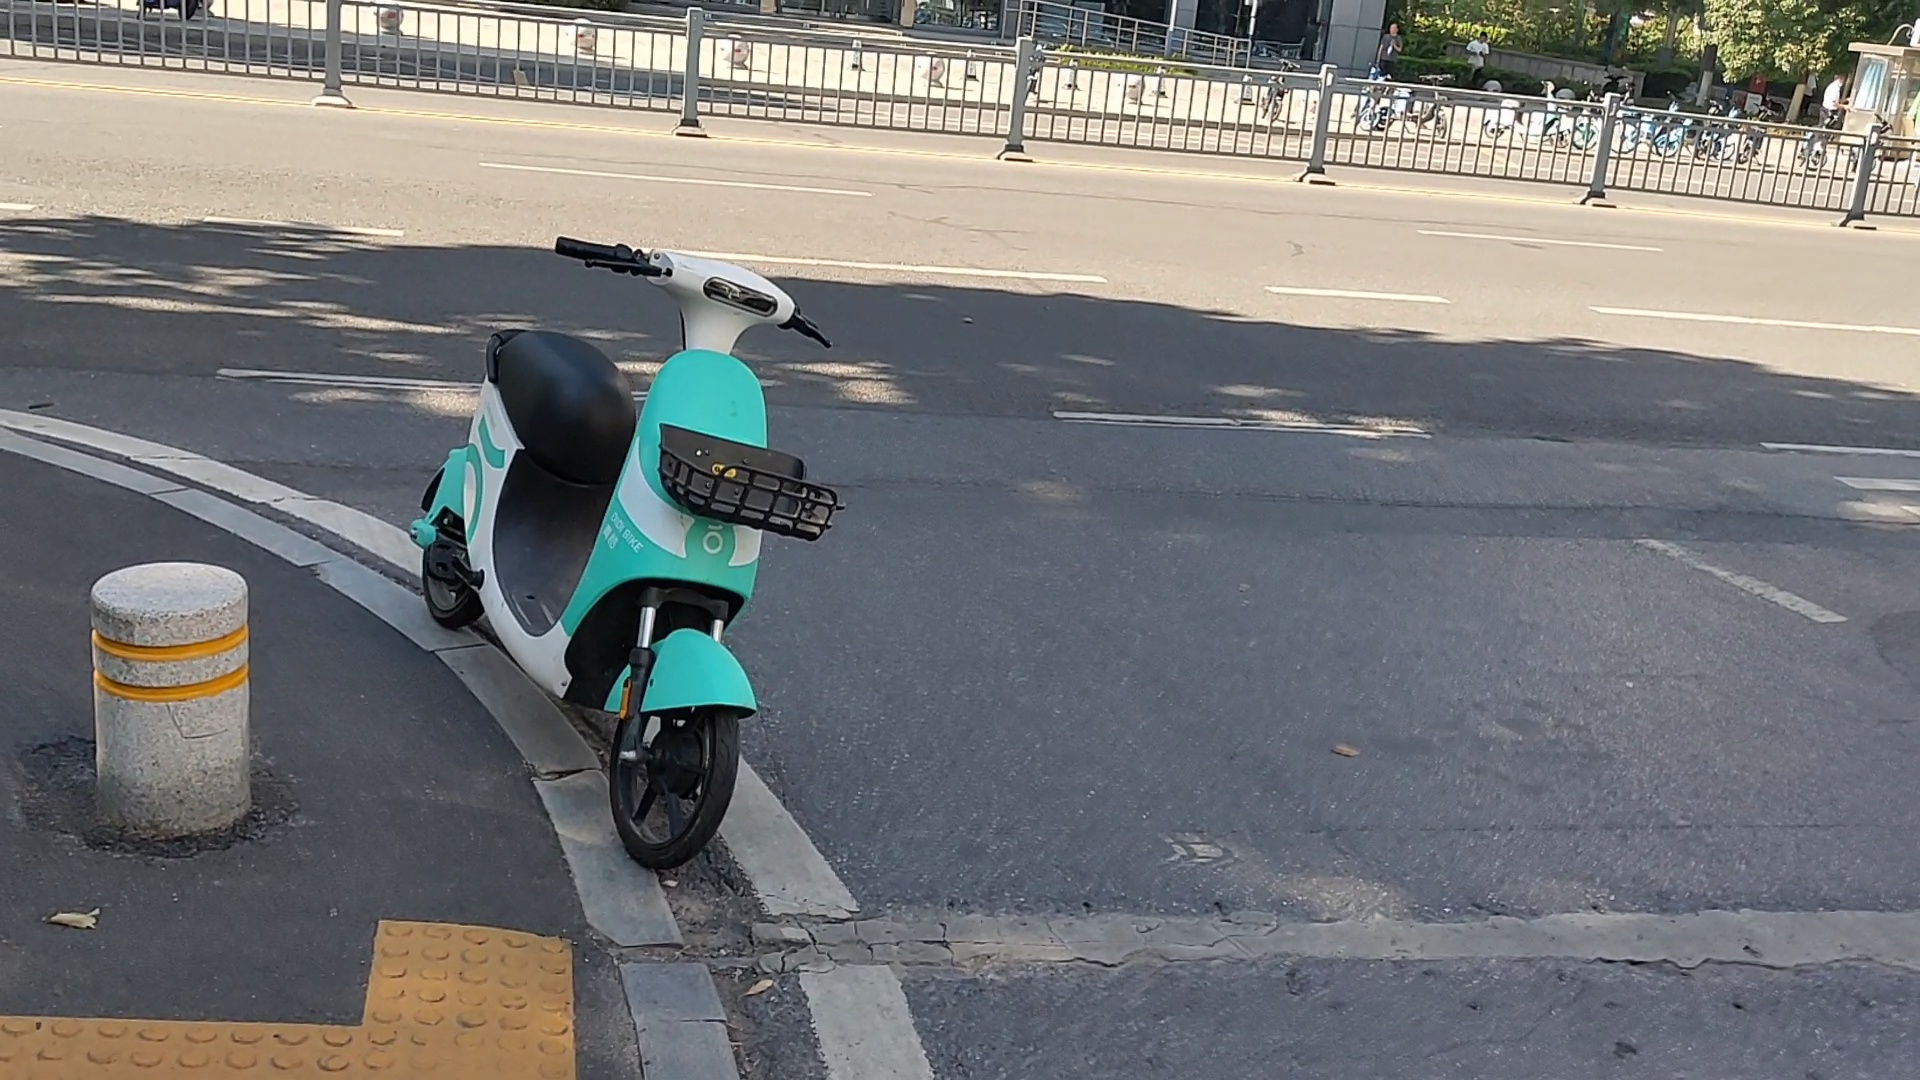non-vehicle: (407, 229, 845, 862), (1619, 116, 1684, 157), (1702, 124, 1759, 164)
